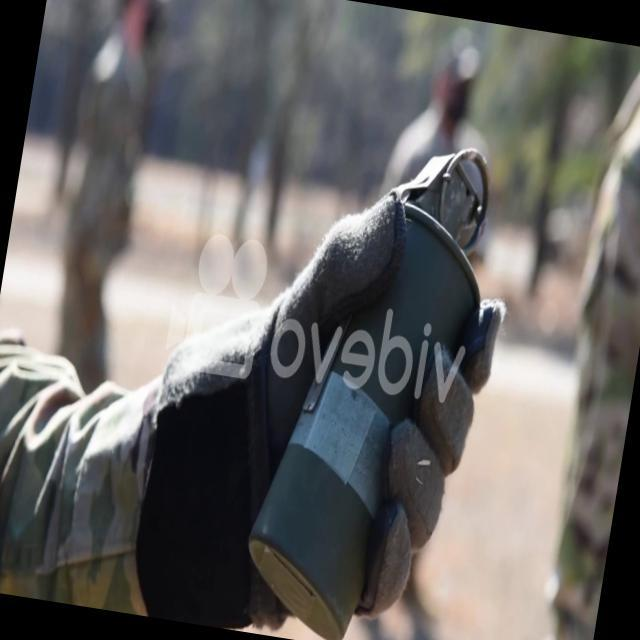grenade: (237, 125, 508, 640)
